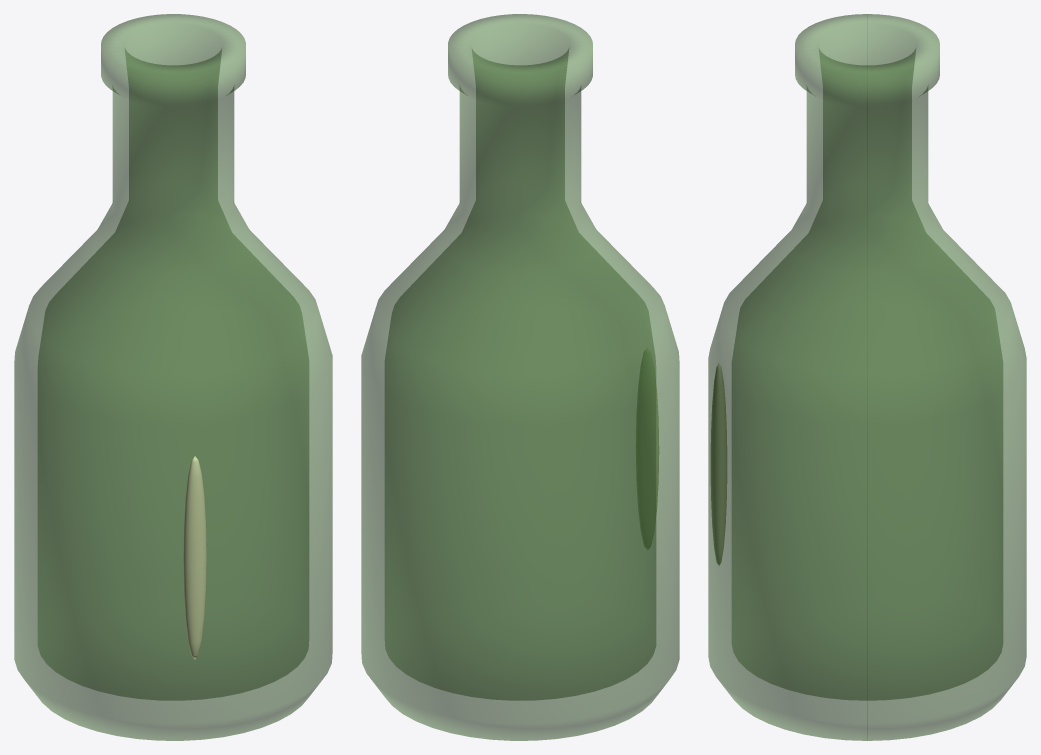
Rendered from glass_bottle.glb.
3 renders of one model, left to right at view 1: azimuth 30°, elevation 25°; view 2: azimuth 150°, elevation 25°; view 3: azimuth 270°, elevation 25°, orthographic.
Parts seen in each view (by area): view 1: PropGeometryGeometry; view 2: PropGeometryGeometry; view 3: PropGeometryGeometry.
Boxes of the visible parts, x1,y1,x2,y2 form: PropGeometryGeometry: (14,14,332,740); PropGeometryGeometry: (361,14,679,740); PropGeometryGeometry: (708,14,1026,740).
Size of the model in its own units: 0.68 by 1.5 by 0.68.
